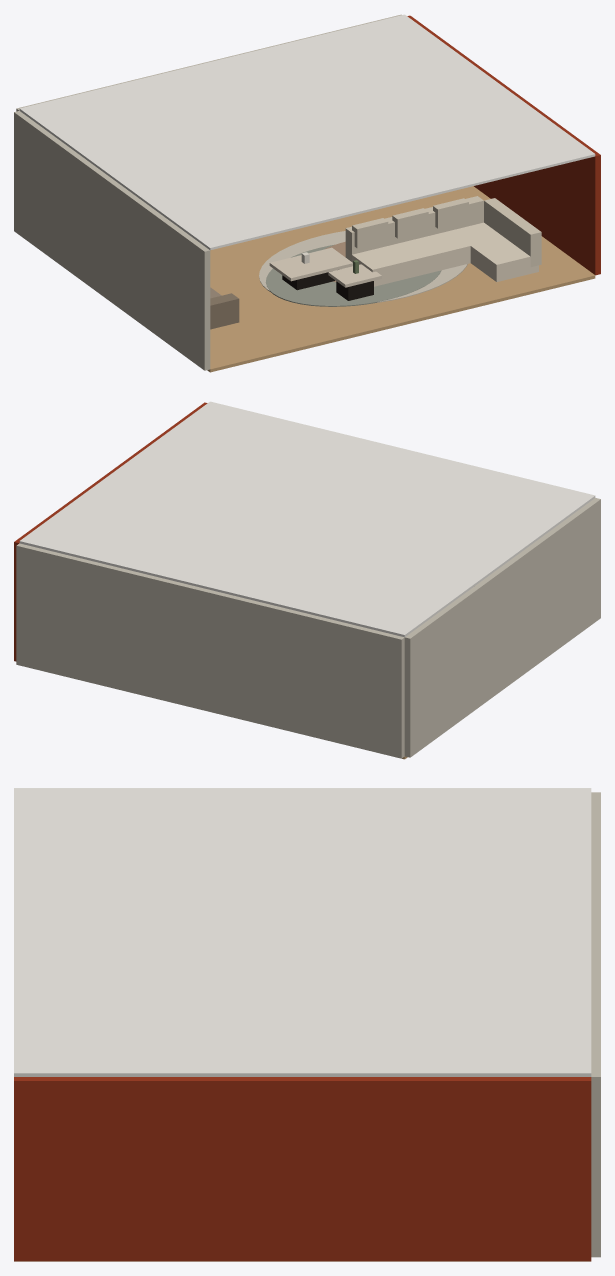
Rendered from hero-interior.glb.
3 views of the same model, one above another, from view 1: azimuth 30°, elevation 25°; view 2: azimuth 150°, elevation 25°; view 3: azimuth 270°, elevation 25° (orthographic). The views are drawn at different scales.
Visible parts, largest first — view 1: Shell_Ceiling, Shell_WallLeft, Shell_Floor, Furniture_SofaCream, Shell_WallRight, Details_Rug, Furniture_TableCluster, Furniture_SofaTaupe, Shell_WallBack; view 2: Shell_Ceiling, Shell_WallBack, Shell_WallLeft, Shell_WallRight; view 3: Shell_Ceiling, Shell_WallRight, Shell_WallBack.
Part boxes in pixels (x1,y1,x2,y2): Shell_Ceiling: (19, 14, 595, 250); Shell_WallLeft: (14, 111, 210, 370); Shell_Floor: (207, 186, 595, 372); Furniture_SofaCream: (345, 196, 541, 286); Shell_WallRight: (407, 15, 600, 275); Details_Rug: (259, 231, 467, 306); Furniture_TableCluster: (269, 247, 381, 300); Furniture_SofaTaupe: (210, 287, 239, 329); Shell_WallBack: (16, 14, 401, 111); Shell_Ceiling: (19, 401, 595, 637); Shell_WallBack: (16, 543, 404, 758); Shell_WallLeft: (404, 498, 600, 757); Shell_WallRight: (14, 402, 207, 661); Shell_Ceiling: (14, 788, 591, 1076); Shell_WallRight: (14, 1077, 591, 1261); Shell_WallBack: (591, 792, 600, 1257).
Size of the model in its own units: 10.8 by 3.24 by 9.15.
